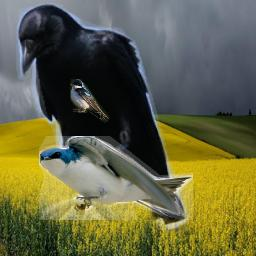Crow: (15, 3, 188, 235)
Swallow: (39, 136, 193, 220), (70, 79, 109, 123)
